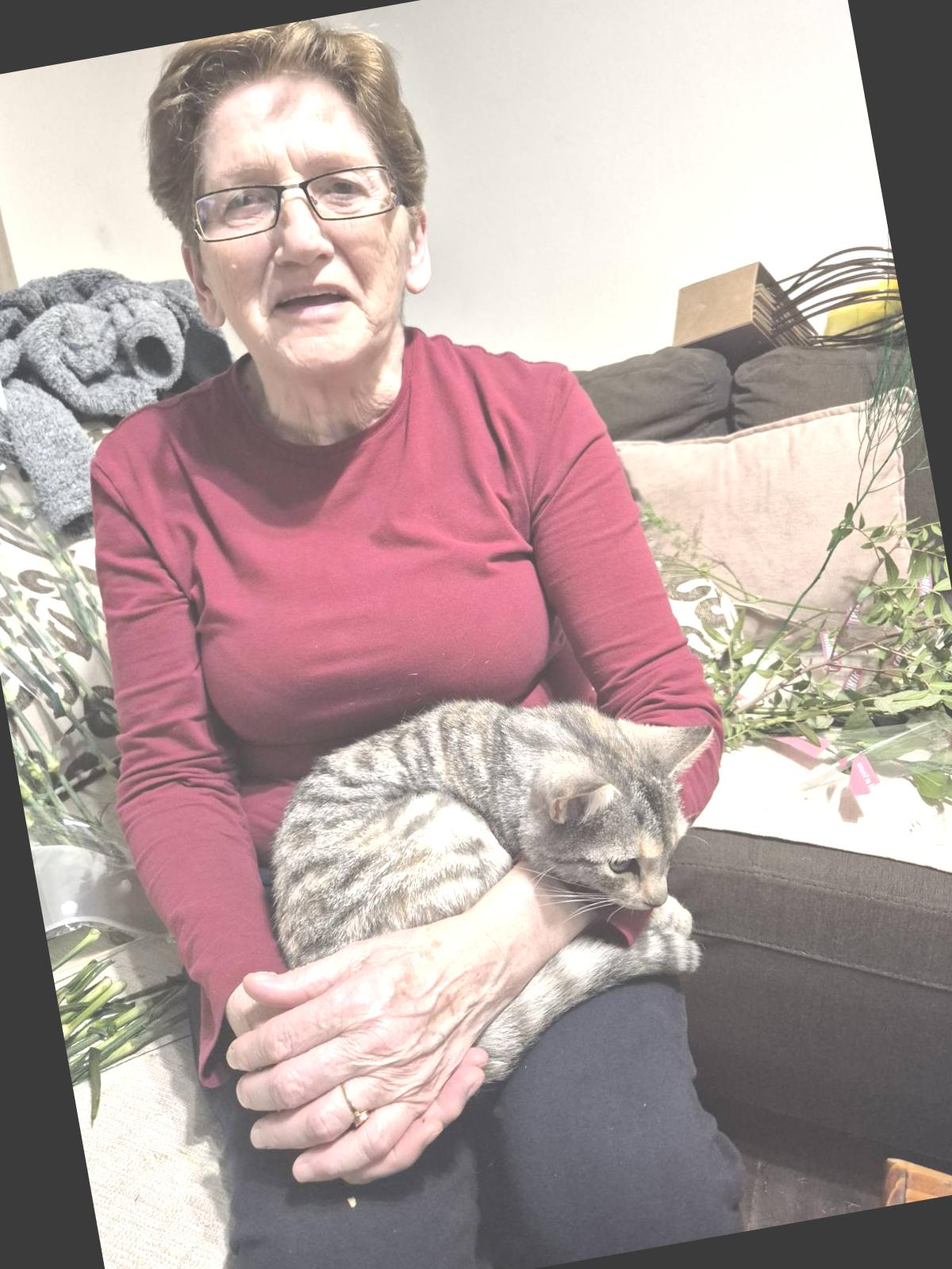macka: (242, 659, 774, 1113)
